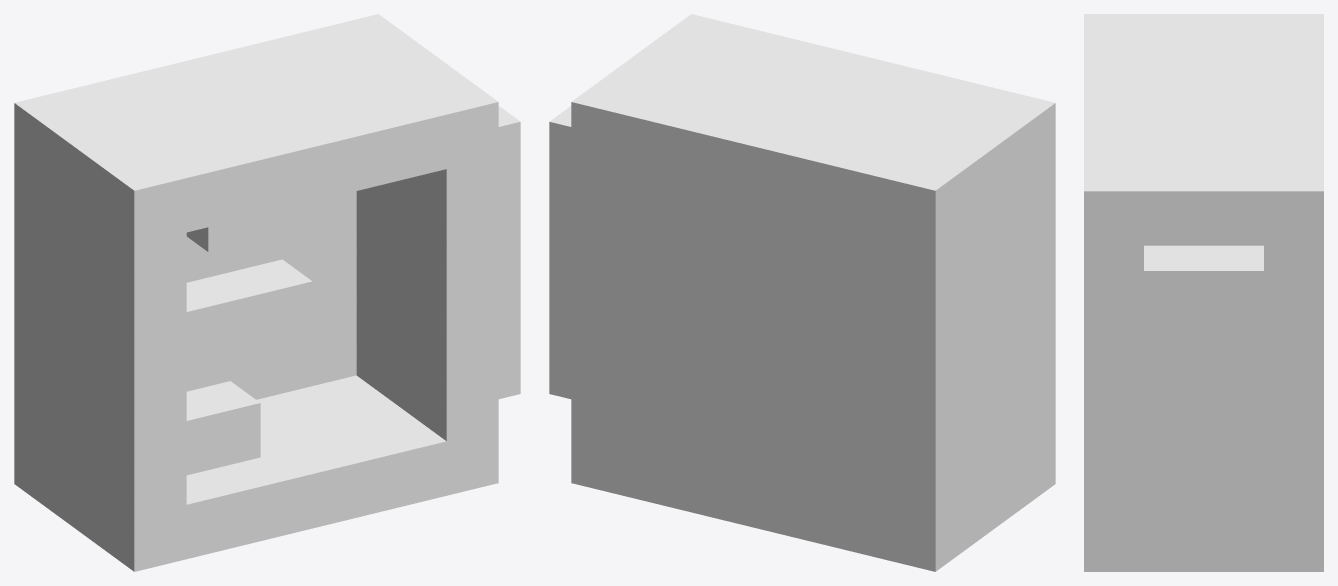
3 views of the same model, side by side, from view 1: azimuth 30°, elevation 25°; view 2: azimuth 150°, elevation 25°; view 3: azimuth 270°, elevation 25° (orthographic).
Size of the model in its own units: 8 by 7 by 4.
Materials: 1 (1 with a texture image).
